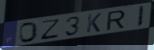3: (65, 16, 81, 37)
I: (137, 4, 146, 28)
K: (86, 12, 104, 34)
O: (19, 21, 40, 44)
R: (105, 9, 127, 32)
Z: (39, 18, 62, 41)
